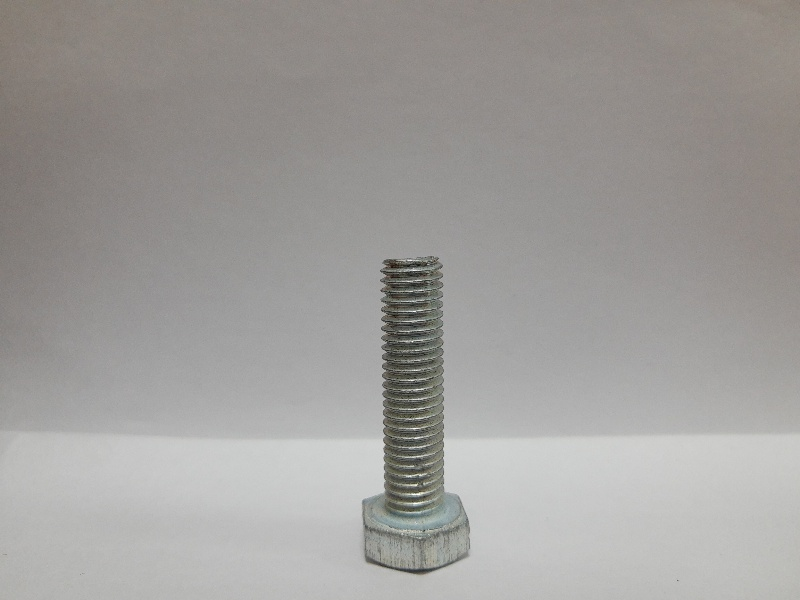pf: (361, 254, 475, 572)
